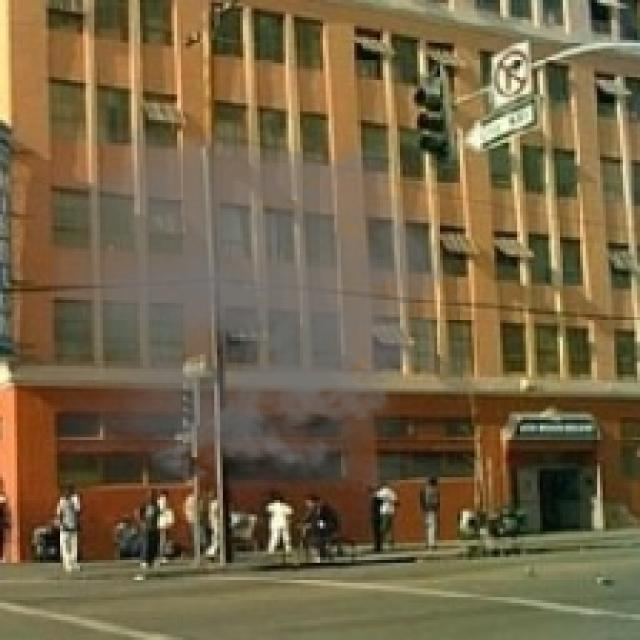smoke: (51, 126, 468, 491)
